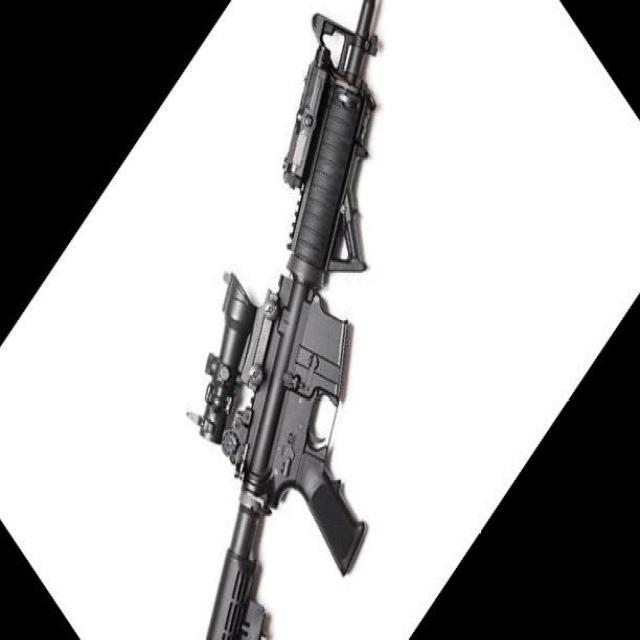weapon: (187, 1, 379, 640)
